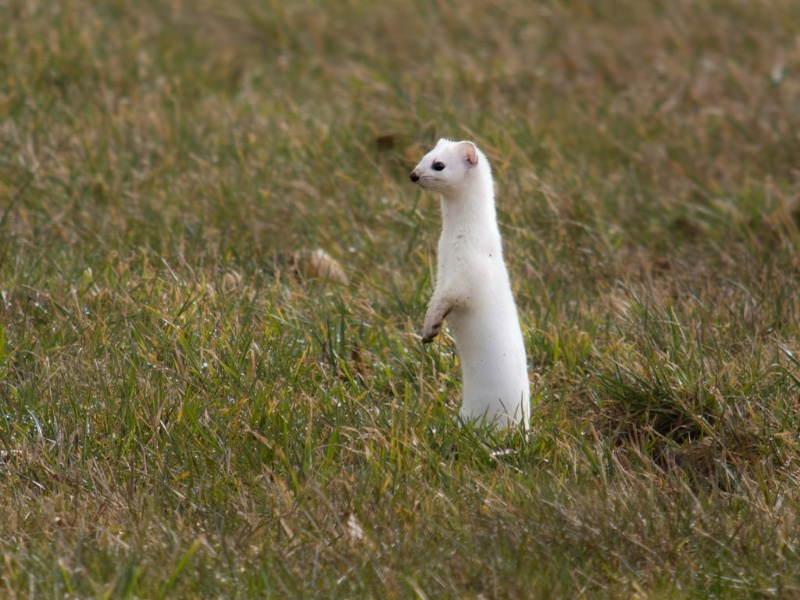minkish: (400, 133, 545, 468)
